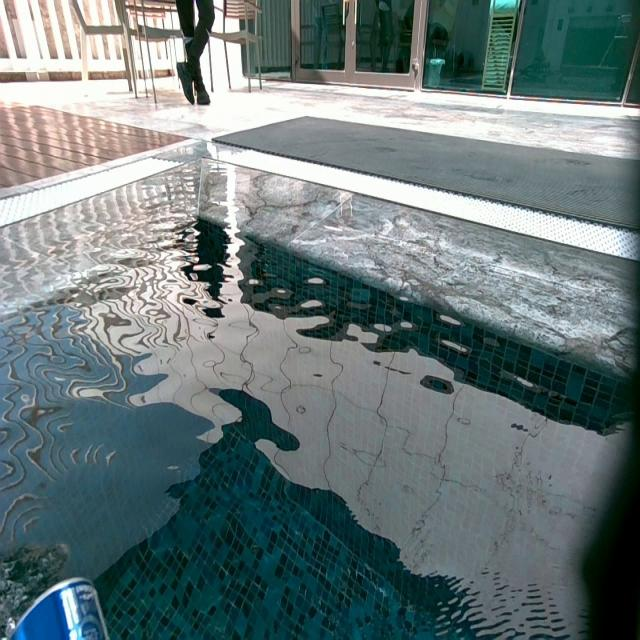Cans: (4, 572, 109, 636)
